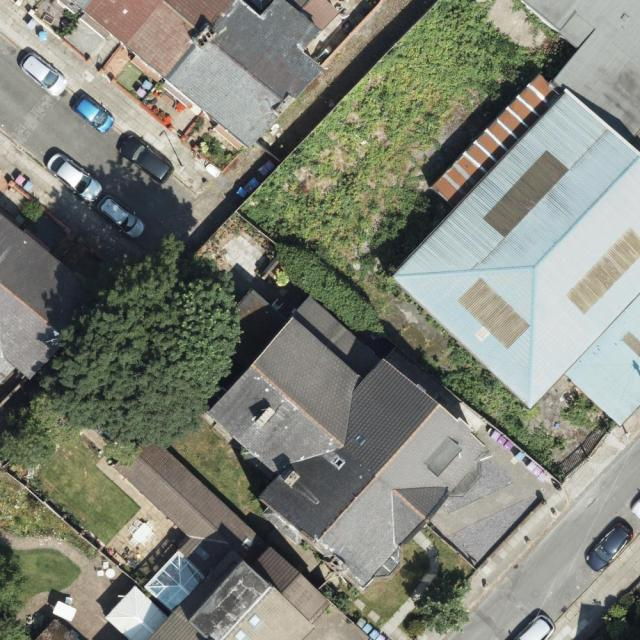roof: (393, 0, 640, 431), (206, 297, 489, 590), (106, 428, 375, 640), (63, 0, 338, 149)
skylight: (147, 551, 210, 613), (332, 457, 346, 470), (354, 434, 367, 447)
